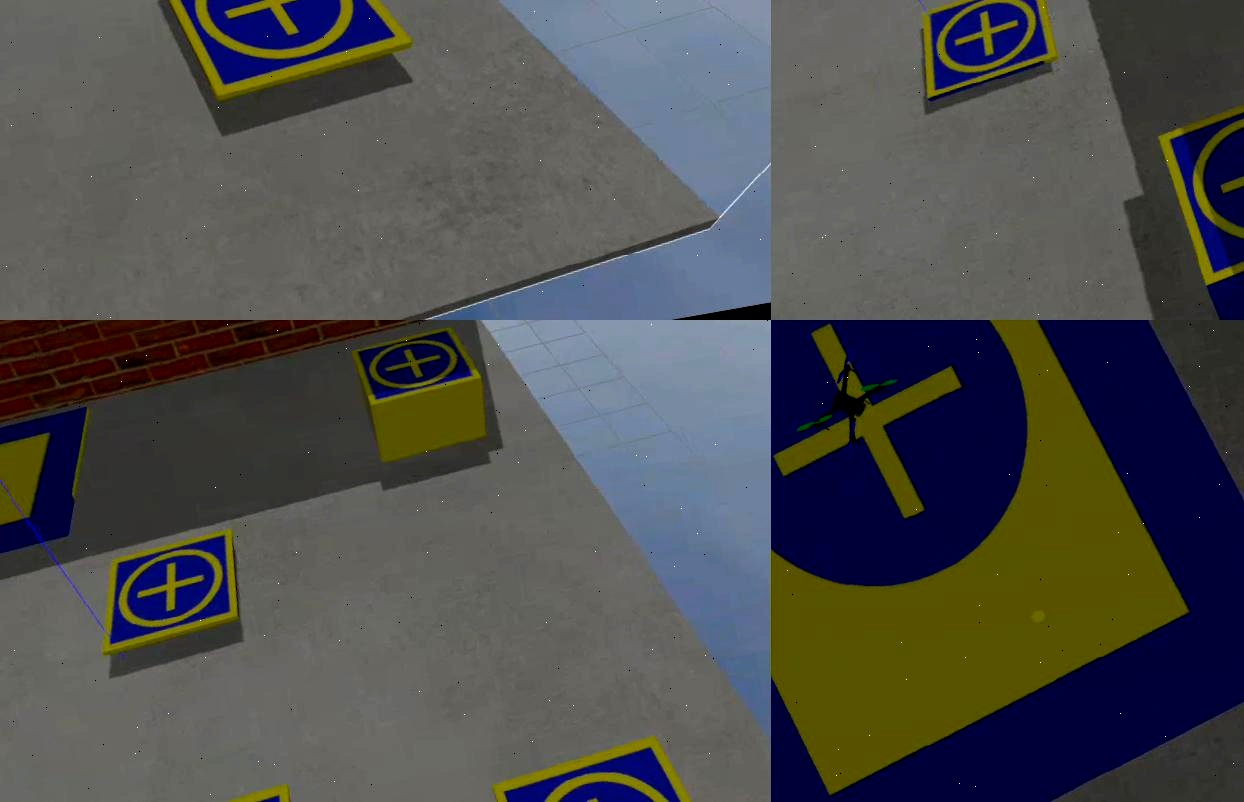large_base: (771, 320, 1244, 802), (0, 408, 111, 577)
small_base: (153, 1, 419, 112), (1153, 72, 1244, 290), (86, 535, 249, 654), (490, 729, 738, 802), (909, 1, 1062, 102), (351, 322, 486, 409)
